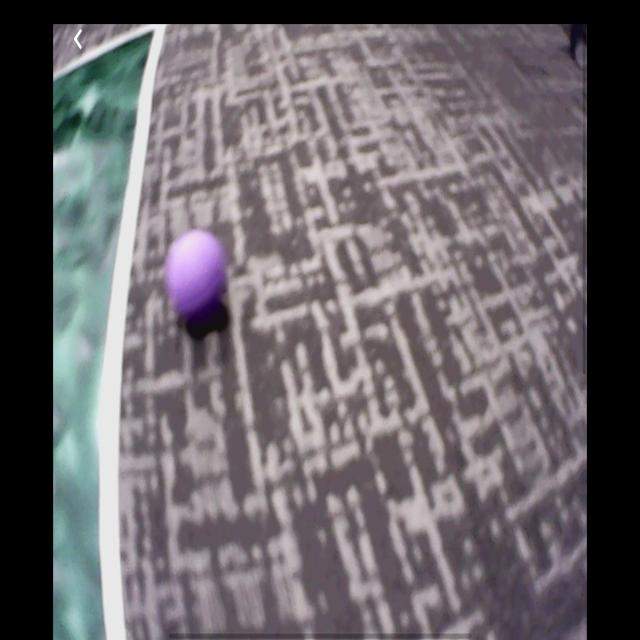ball: (165, 228, 230, 323)
